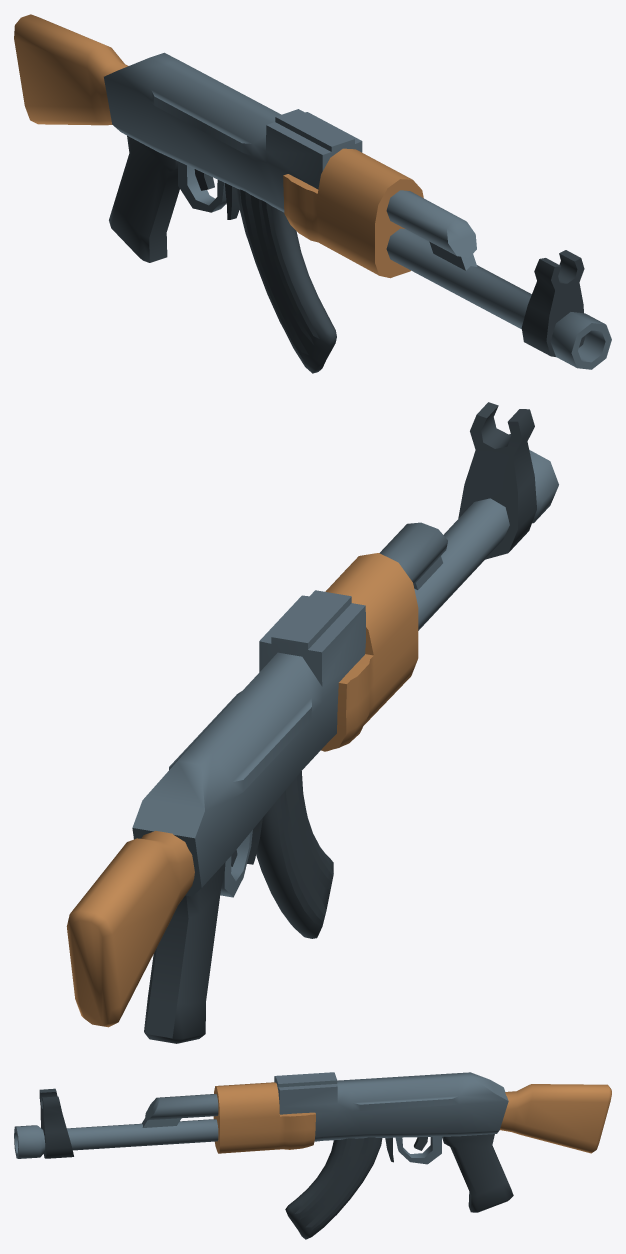
The picture shows the model from 3 angles, top to bottom: view 1: azimuth 30°, elevation 25°; view 2: azimuth 150°, elevation 25°; view 3: azimuth 270°, elevation 25°; orthographic projection. The views are drawn at different scales.
Parts seen in each view (by area): view 1: AK-47; view 2: AK-47; view 3: AK-47.
Boxes of the visible parts, left/top/right/bottom form: AK-47: left=14, top=14, right=611, bottom=373; AK-47: left=66, top=402, right=558, bottom=1043; AK-47: left=14, top=1072, right=611, bottom=1239.
Size of the model in its own units: 10.71 by 16.34 by 54.98.
